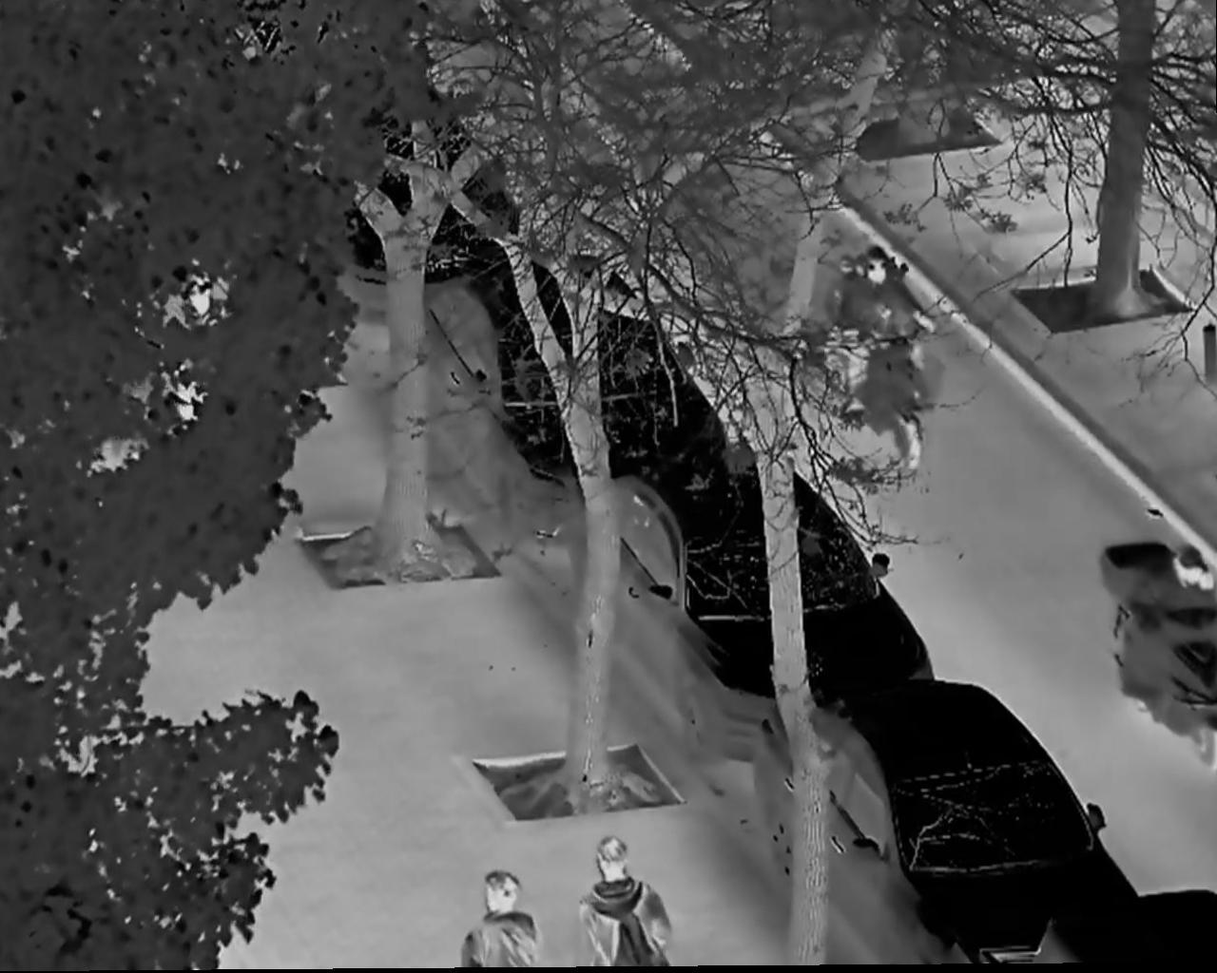person: (839, 250, 931, 400), (579, 835, 677, 972), (1138, 541, 1217, 706), (460, 874, 543, 971)
